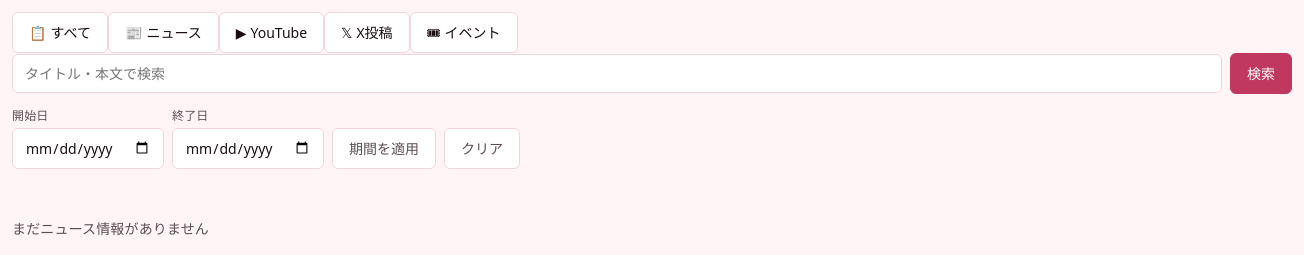
Test case: NewsFeedList › 検索結果が0件のとき「該当するニュースが見つかりません」が表示される
In the search field: [617, 74] box [12,54,1222,93], type "ヒットしないワード"
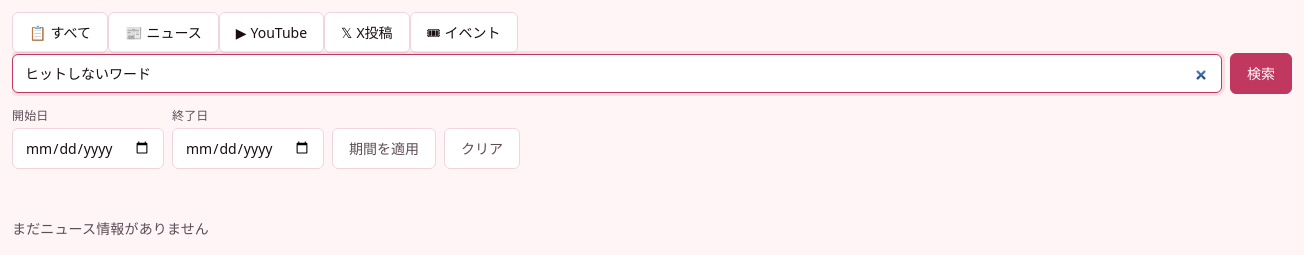
Click the button "検索": [1261, 74] box [1230,53,1292,94]
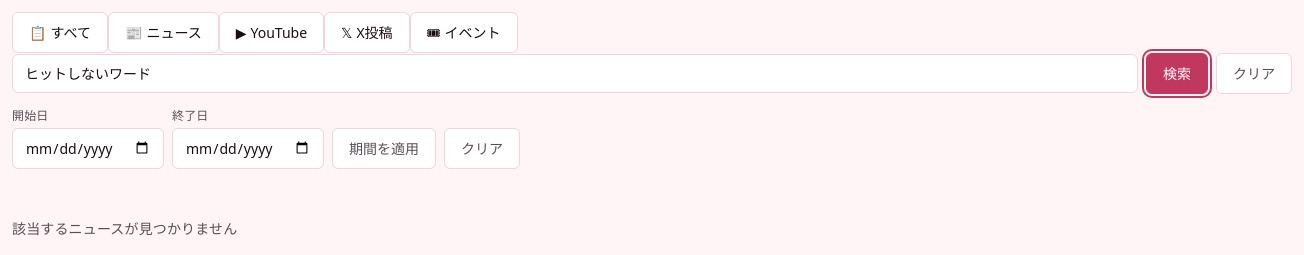
Result: the text "該当するニュースが見つかりません" is shown at [12,219,237,238]
